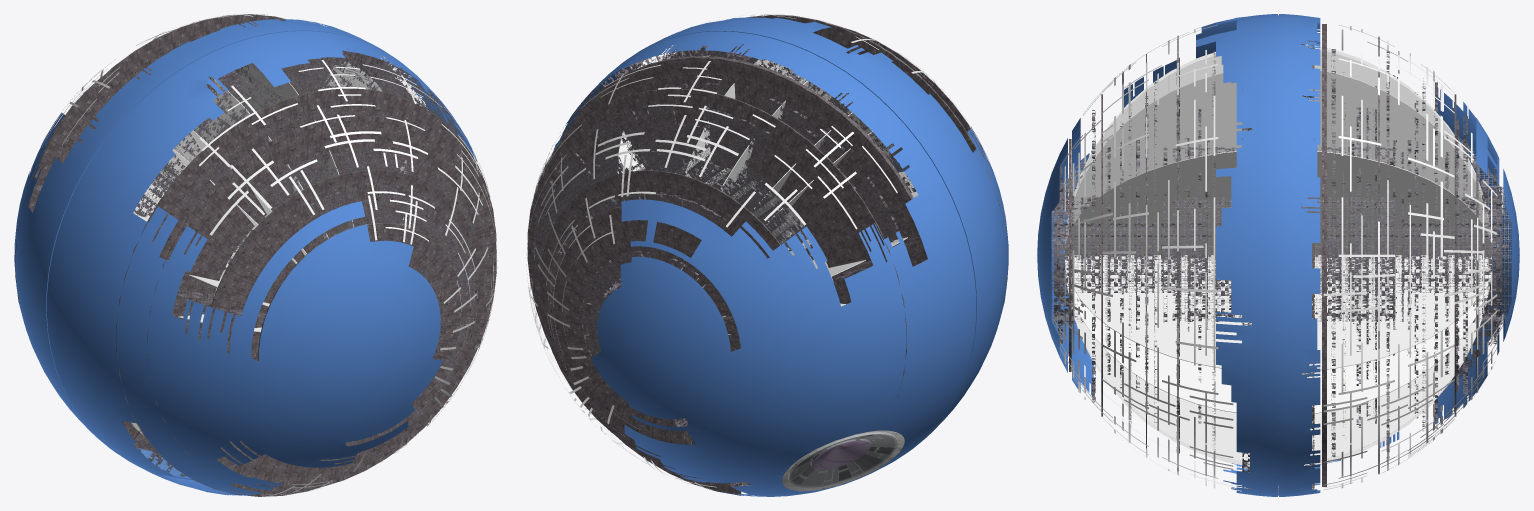
3 views of the same model, side by side, from view 1: azimuth 30°, elevation 25°; view 2: azimuth 150°, elevation 25°; view 3: azimuth 270°, elevation 25° (orthographic).
Parts seen in each view (by area): view 1: DS2, plate_03, internals, plate_04, plate_02, det2, plate_01, plate_05, plate_08, reinforcements05, reinforcements01, int (+4 smaller); view 2: DS2, plate_01, internals, plate_08, plate_07, plate_06, det2, det1, plate_02, reinforcements05, hull, reinforcements01 (+4 smaller); view 3: DS2, internals, reinforcements03, det2, reinforcements06, reinforcements05, supports, reinforcements02, reinforcements01, int, plate_08, reinforcements04 (+5 smaller).
Part boxes in pixels (box(x1,y1,x2,y2)): DS2: box(14, 19, 477, 495); plate_03: box(147, 116, 496, 491); internals: box(133, 20, 478, 470); plate_04: box(207, 169, 483, 470); plate_02: box(116, 88, 496, 496); det2: box(46, 14, 497, 496); plate_01: box(15, 14, 285, 310); plate_05: box(258, 222, 461, 408); plate_08: box(77, 23, 412, 451); reinforcements05: box(240, 63, 353, 227); reinforcements01: box(193, 76, 328, 238); int: box(30, 167, 265, 476); DS2: box(552, 17, 1008, 496); plate_01: box(527, 89, 906, 495); internals: box(533, 23, 915, 486); plate_08: box(560, 56, 927, 484); plate_07: box(552, 206, 740, 444); plate_06: box(539, 170, 780, 461); det2: box(526, 14, 965, 491); det1: box(788, 432, 897, 487); plate_02: box(671, 15, 1007, 312); reinforcements05: box(685, 59, 806, 184); hull: box(782, 430, 904, 491); reinforcements01: box(681, 81, 851, 270); DS2: box(1037, 14, 1519, 496); internals: box(1051, 19, 1506, 491); reinforcements03: box(1065, 255, 1491, 370); det2: box(1053, 24, 1503, 490); reinforcements06: box(1065, 151, 1491, 254); reinforcements05: box(1064, 70, 1491, 255); supports: box(1065, 263, 1491, 462); reinforcements02: box(1065, 261, 1491, 413); reinforcements01: box(1065, 50, 1490, 241); int: box(1052, 132, 1511, 393); plate_08: box(1322, 24, 1326, 486); reinforcements04: box(1066, 44, 1489, 466).
Size of the model in its own units: 2.73 by 2.73 by 2.73.
Materials: 13 (5 with a texture image).
